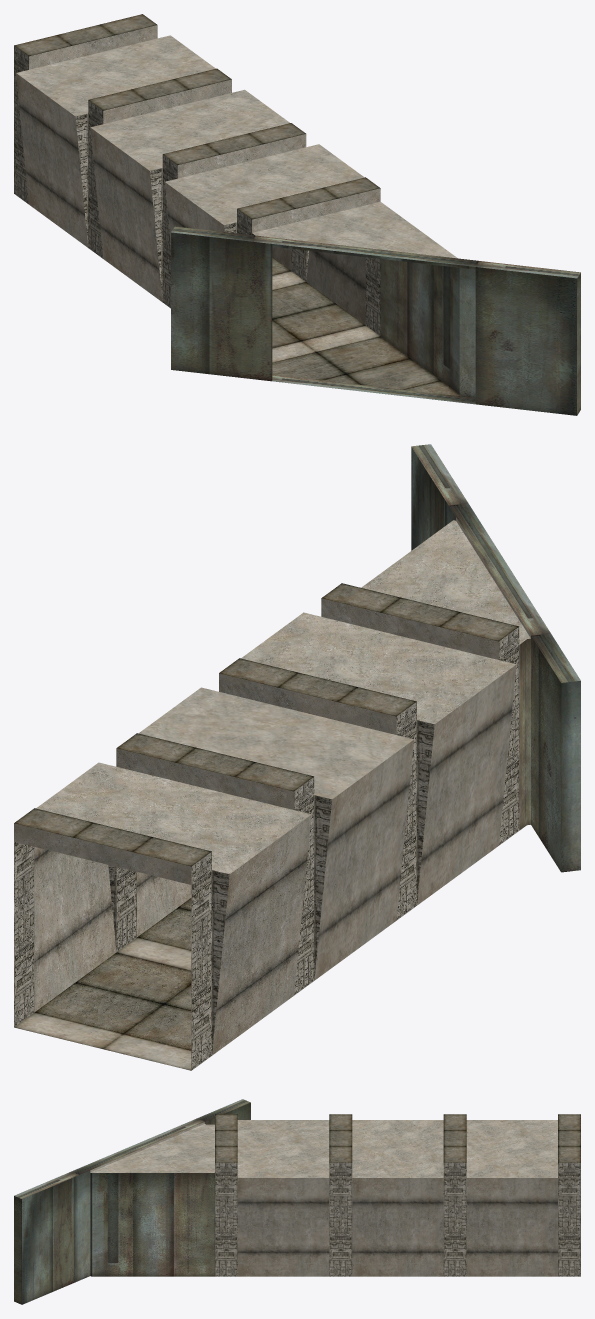
The model's file is thm_yavn_great_massassi_temple_r1_foyer_mesh_r1.fbx.
3 renders of one model, top to bottom at view 1: azimuth 30°, elevation 25°; view 2: azimuth 150°, elevation 25°; view 3: azimuth 270°, elevation 25°, orthographic. The views are drawn at different scales.
Visible parts, largest first — view 1: mesh_node; view 2: mesh_node; view 3: mesh_node.
Boxes of the visible parts, x1,y1,x2,y2 form: mesh_node: (14,14,580,415); mesh_node: (14,444,580,1070); mesh_node: (14,1099,580,1304).
Bounding box in the file's own units: 10.35 × 5.5 × 24.78.
